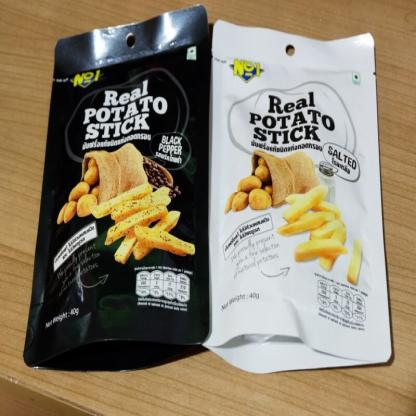potatochip: (199, 20, 396, 373), (23, 6, 214, 370)
